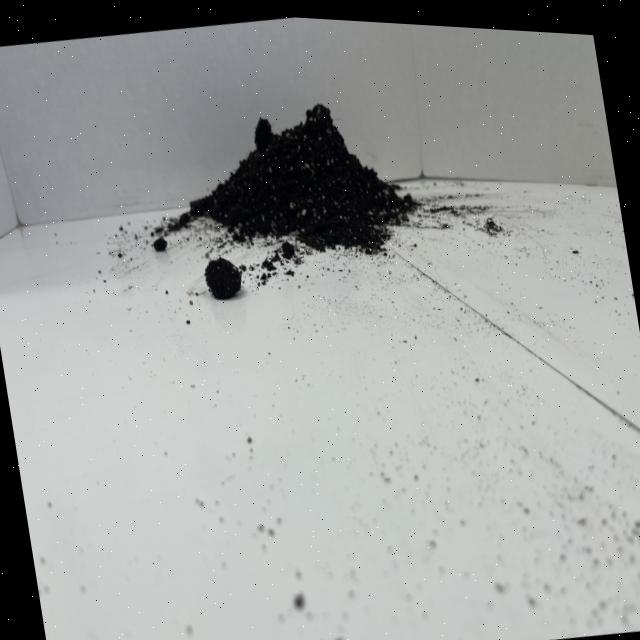soil: (103, 38, 434, 305)
